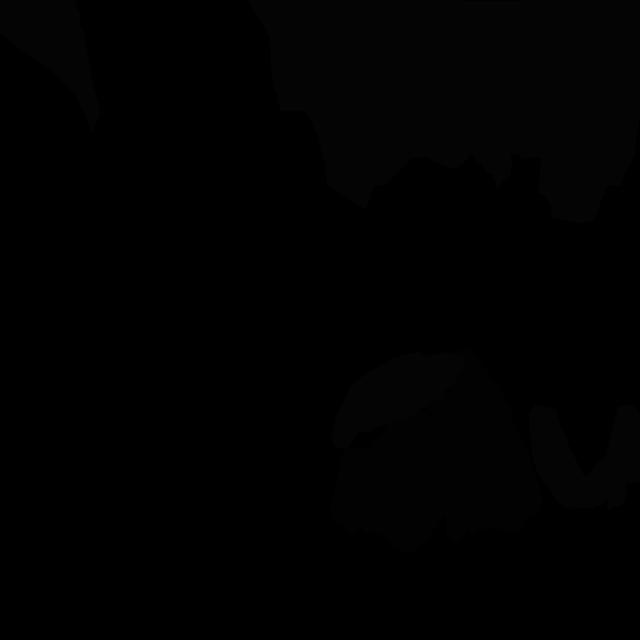cardboard: (330, 410, 544, 552), (424, 346, 512, 452)
soft_plastic: (248, 0, 513, 210), (502, 0, 640, 224), (331, 352, 466, 449), (529, 404, 640, 509)
